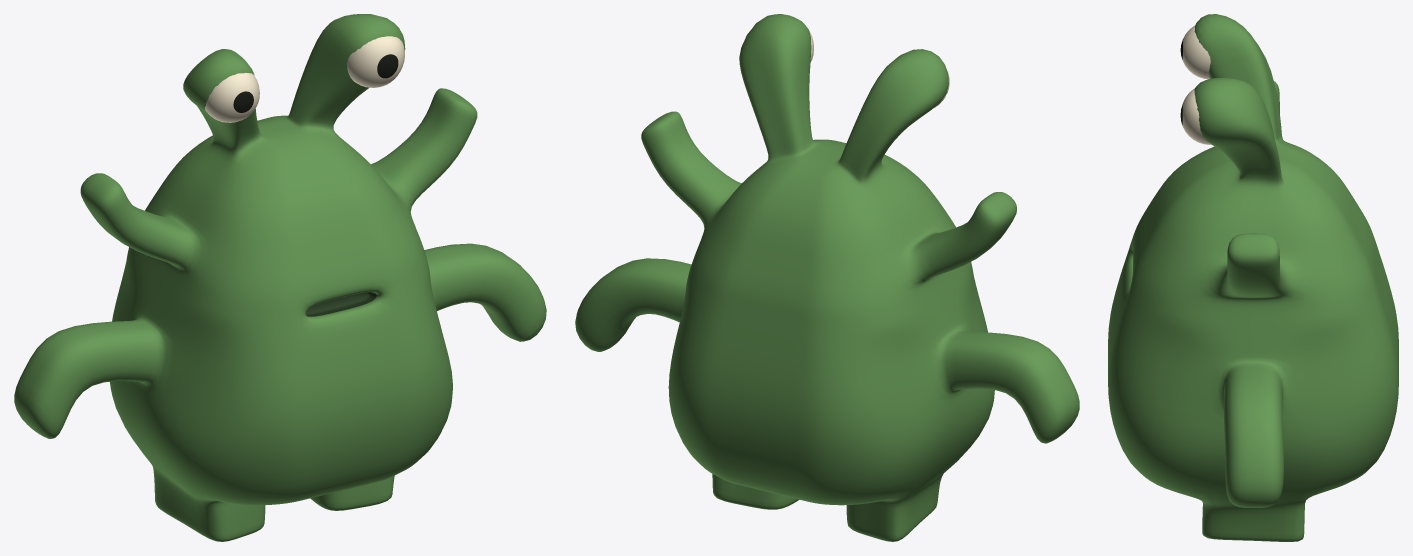
The model's file is 7. karakter.fbx.
3 renders of one model, left to right at view 1: azimuth 30°, elevation 25°; view 2: azimuth 150°, elevation 25°; view 3: azimuth 270°, elevation 25°, orthographic. The views are drawn at different scales.
Parts seen in each view (by area): view 1: Cube, Sphere.001, Sphere; view 2: Cube; view 3: Cube, Sphere, Sphere.001.
Boxes of the visible parts, left/top/right/bottom form: Cube: left=14, top=14, right=546, bottom=541; Sphere.001: left=346, top=36, right=404, bottom=87; Sphere: left=205, top=73, right=259, bottom=122; Cube: left=575, top=14, right=1079, bottom=541; Cube: left=1108, top=14, right=1398, bottom=541; Sphere: left=1180, top=25, right=1210, bottom=79; Sphere.001: left=1180, top=88, right=1211, bottom=144.
Bounding box in the file's own units: 433 × 391 × 226.
